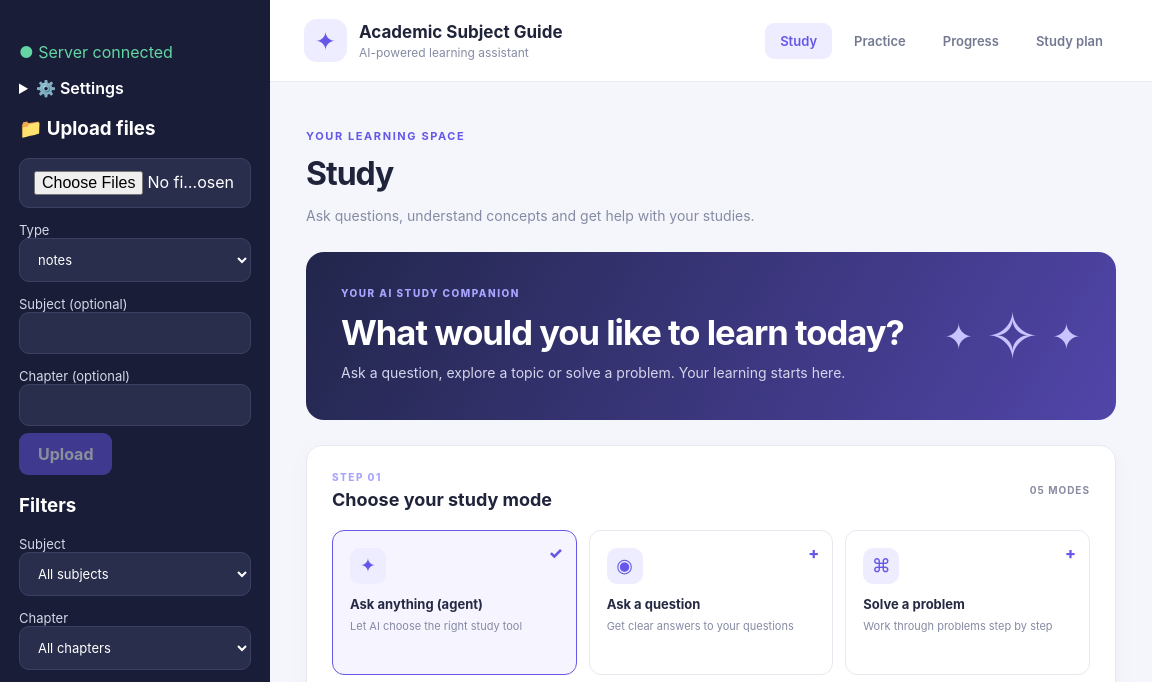
Test case: other pages › builds a study plan and reports a bad date
The image size is (1152, 682).
Click the button "Study plan".
click(1069, 40)  # box [1021, 22, 1118, 58]
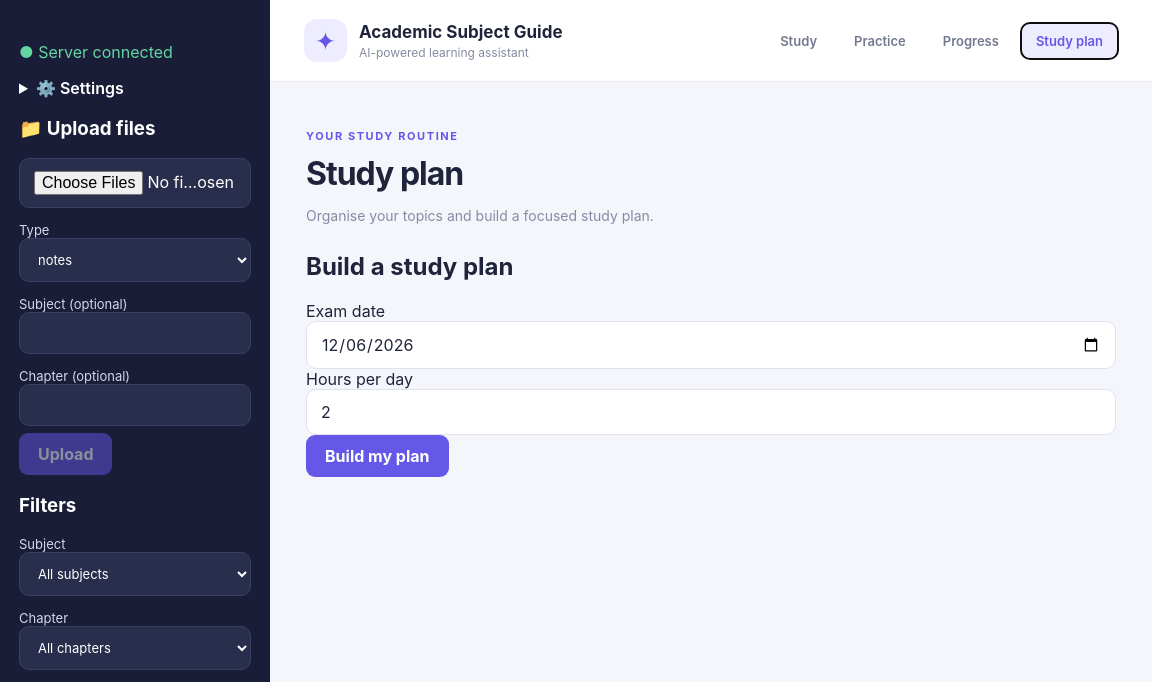
Click the button "Build my plan".
click(377, 456)  # box [306, 435, 448, 477]
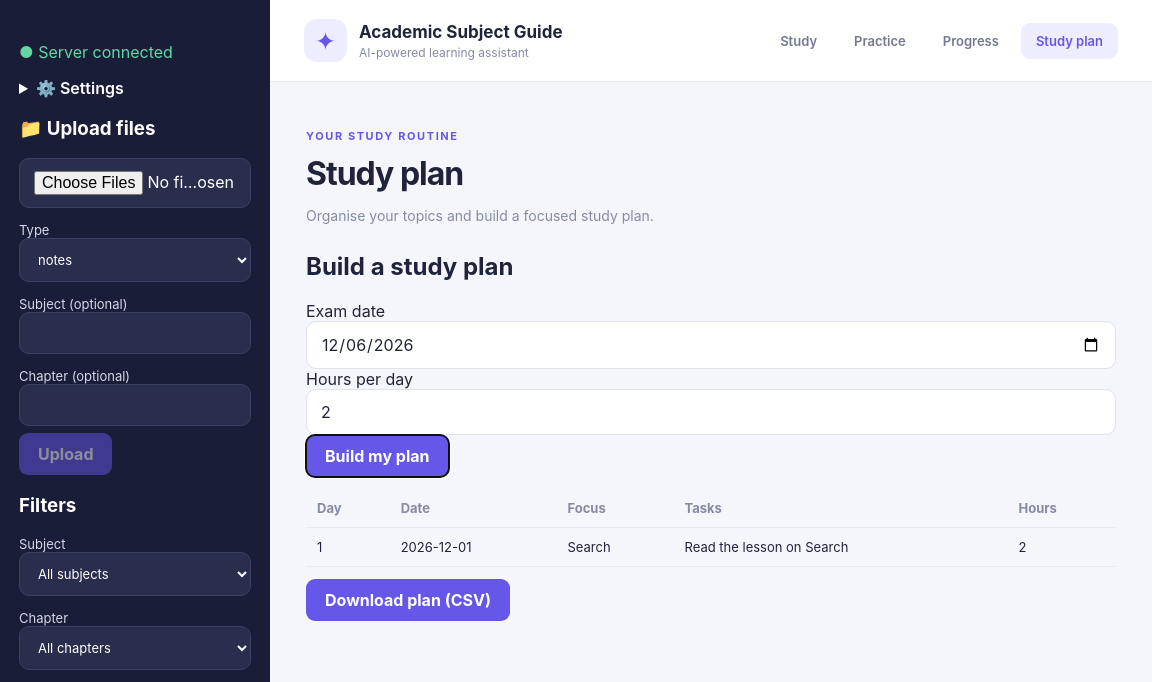
Result: the text "Read the lesson on Search" is shown at [674, 527, 1008, 566]
Click the button "Build my plan".
click(377, 456)  # box [306, 435, 448, 477]
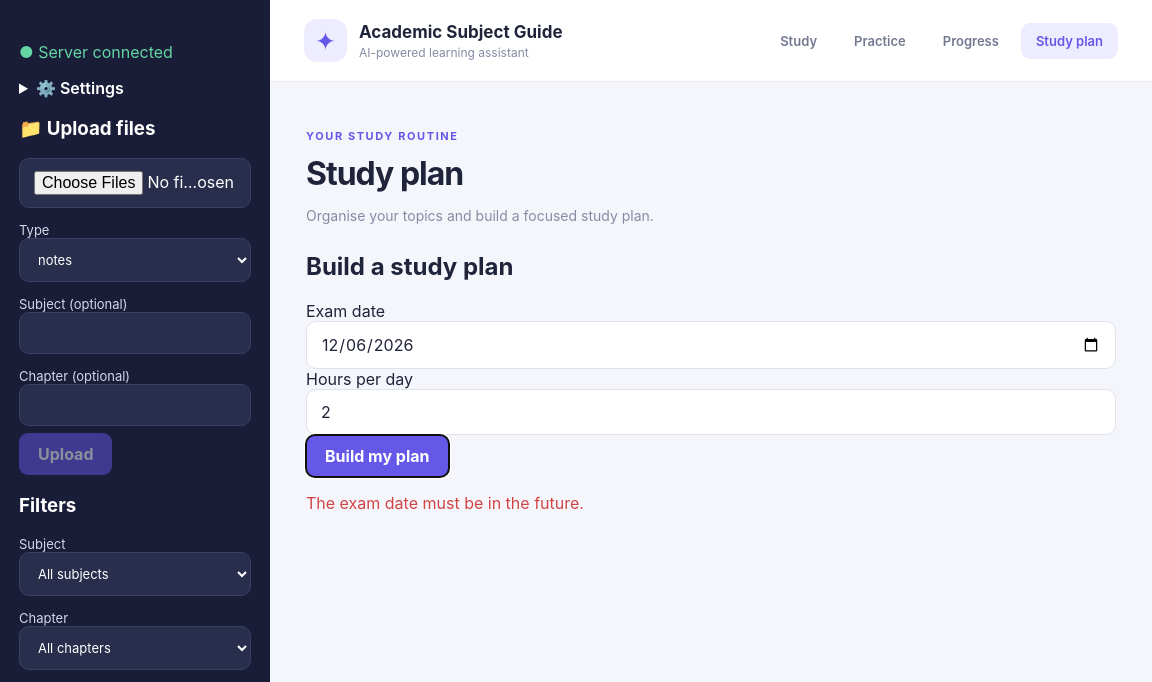
Result: the message shows "exam date must be in the future" at [306, 493, 584, 513]
